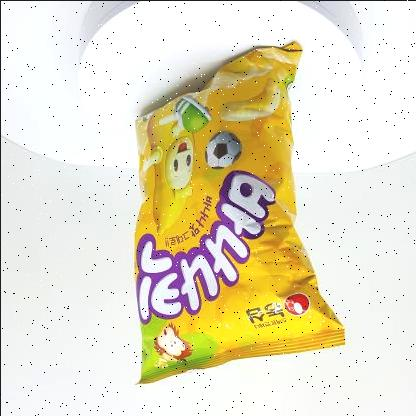Others: (116, 34, 348, 390)
